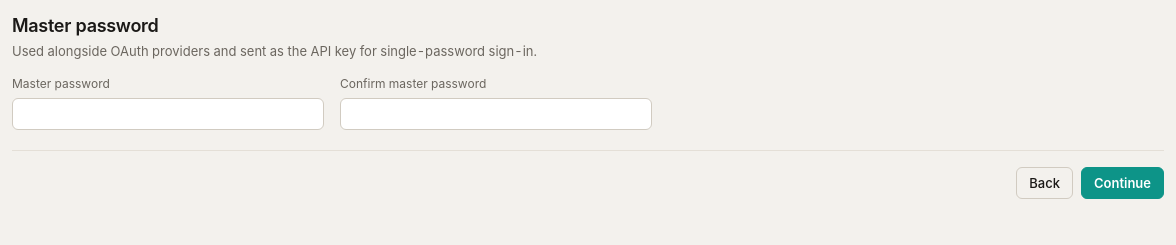
Test: setup wizard pages › shows error for mismatched master passwords
Type "first-master-password" into the password field labelled "Master password".
click(168, 114); type("first-master-password")  # box [12, 98, 324, 130]
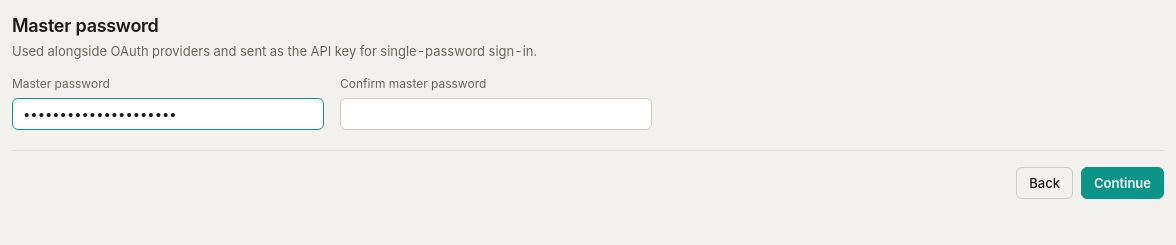
Type "other-master-password" into the password field labelled "Confirm master password".
click(496, 114); type("other-master-password")  # box [340, 98, 652, 130]
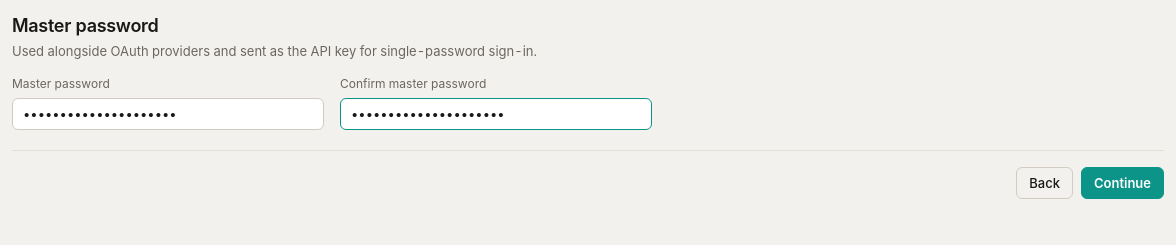
Click the button "Continue".
click(1122, 183)  # box [1081, 167, 1164, 199]
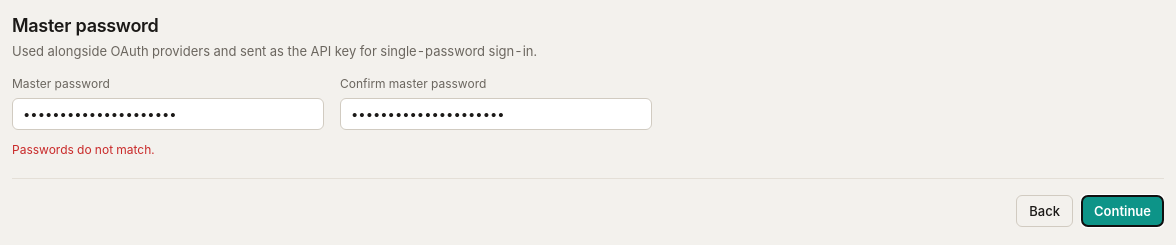
Check: the text "Passwords do not match." is shown, box [12, 142, 154, 157]
